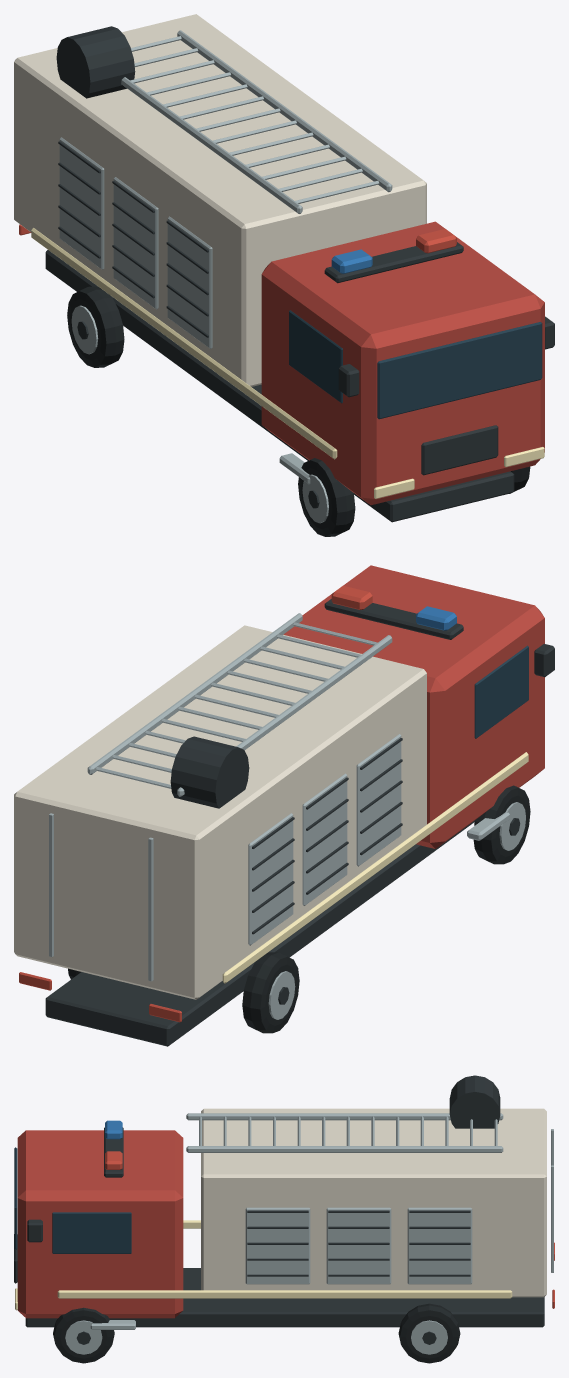
Rendered from fire-engine-01.glb.
The picture shows the model from 3 angles, top to bottom: view 1: azimuth 30°, elevation 25°; view 2: azimuth 150°, elevation 25°; view 3: azimuth 270°, elevation 25°; orthographic projection. The views are drawn at different scales.
Parts seen in each view (by area): view 1: CargoBox, Cab, Glass_Windscreen, Chassis, HoseReel, EquipmentShutter.001, EquipmentShutter.002, EquipmentShutter, ReflectiveBand, CabWindow, Tyre_RR, Grille (+9 smaller); view 2: CargoBox, Cab, Chassis, HoseReel, EquipmentShutter, EquipmentShutter.001, EquipmentShutter.002, ReflectiveBand, CabWindow, Tyre_RR, LadderRail.001, Tyre_FR (+9 smaller); view 3: CargoBox, Cab, Chassis, EquipmentShutter.005, EquipmentShutter.003, EquipmentShutter.004, ReflectiveBand.001, CabWindow.001, HoseReel, LadderRail.001, LadderRail, Tyre_RL (+7 smaller).
Part boxes in pixels (left/top/right/bottom): CargoBox: left=14, top=14, right=426, bottom=386; Cab: left=261, top=221, right=544, bottom=505; Glass_Windscreen: left=377, top=322, right=542, bottom=419; Chassis: left=45, top=250, right=514, bottom=522; HoseReel: left=56, top=26, right=135, bottom=98; EquipmentShutter.001: left=113, top=177, right=158, bottom=309; EquipmentShutter.002: left=59, top=137, right=104, bottom=269; EquipmentShutter: left=167, top=216, right=212, bottom=348; ReflectiveBand: left=31, top=228, right=337, bottom=459; CabWindow: left=289, top=310, right=342, bottom=403; Tyre_RR: left=67, top=286, right=124, bottom=367; Grille: left=421, top=425, right=498, bottom=475; CargoBox: left=14, top=625, right=426, bottom=999; Cab: left=283, top=565, right=544, bottom=848; Chassis: left=45, top=820, right=474, bottom=1046; HoseReel: left=170, top=736, right=249, bottom=808; EquipmentShutter: left=356, top=734, right=401, bottom=866; EquipmentShutter.001: left=302, top=773, right=347, bottom=905; EquipmentShutter.002: left=248, top=813, right=293, bottom=945; ReflectiveBand: left=222, top=752, right=528, bottom=983; CabWindow: left=474, top=645, right=528, bottom=738; Tyre_RR: left=242, top=952, right=299, bottom=1033; LadderRail.001: left=87, top=613, right=302, bottom=774; Tyre_FR: left=473, top=785, right=530, bottom=864; CargoBox: left=201, top=1108, right=546, bottom=1297; Cab: left=17, top=1130, right=183, bottom=1318; Chassis: left=25, top=1268, right=544, bottom=1327; EquipmentShutter.005: left=407, top=1207, right=472, bottom=1284; EquipmentShutter.003: left=245, top=1207, right=310, bottom=1284; EquipmentShutter.004: left=326, top=1207, right=391, bottom=1284; ReflectiveBand.001: left=57, top=1290, right=512, bottom=1298; CabWindow.001: left=52, top=1212, right=131, bottom=1253; HoseReel: left=449, top=1075, right=500, bottom=1128; LadderRail.001: left=186, top=1146, right=503, bottom=1152; LadderRail: left=186, top=1113, right=503, bottom=1120; Tyre_RL: left=398, top=1303, right=460, bottom=1363.
Size of the model in its own units: 2.56 by 3.53 by 7.69.
